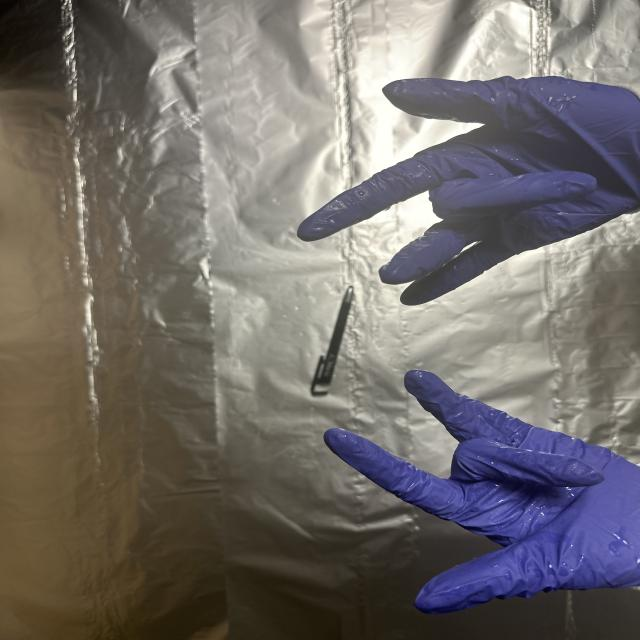gloves_contaminated: (297, 77, 640, 305), (324, 370, 640, 614)
